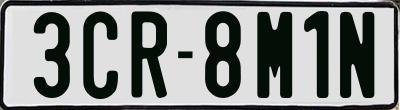1: (303, 9, 328, 99)
3: (31, 11, 69, 103)
8: (202, 8, 239, 100)
C: (81, 11, 122, 103)
M: (254, 9, 293, 97)
N: (340, 11, 375, 103)
R: (128, 11, 165, 103)
